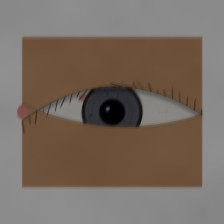hemorrhage_spot: (75, 85, 134, 132)
